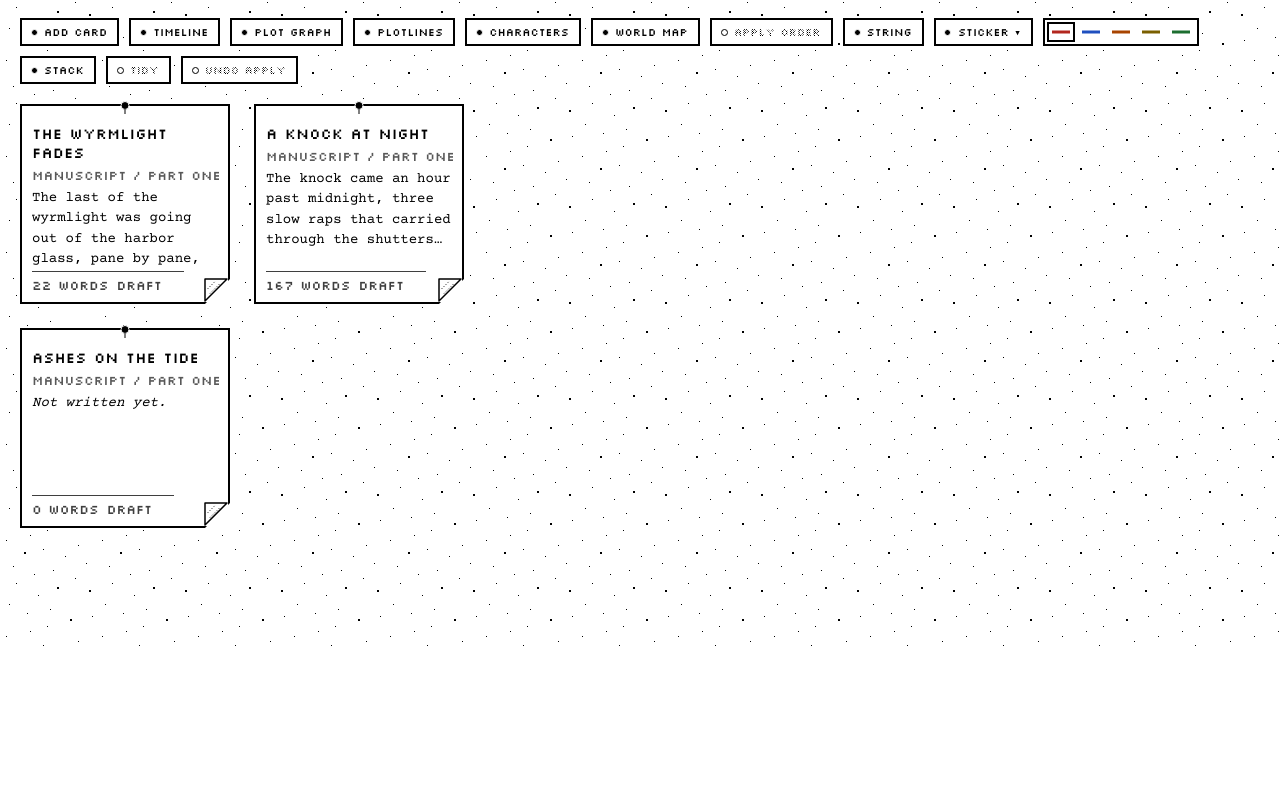
the back of the card › saves and turns to the next card on Enter, in binder order, and closes after the last
Click the button named "Turn The Wyrmlight Fades over". click: (218, 292)
box: [204,278,231,305]
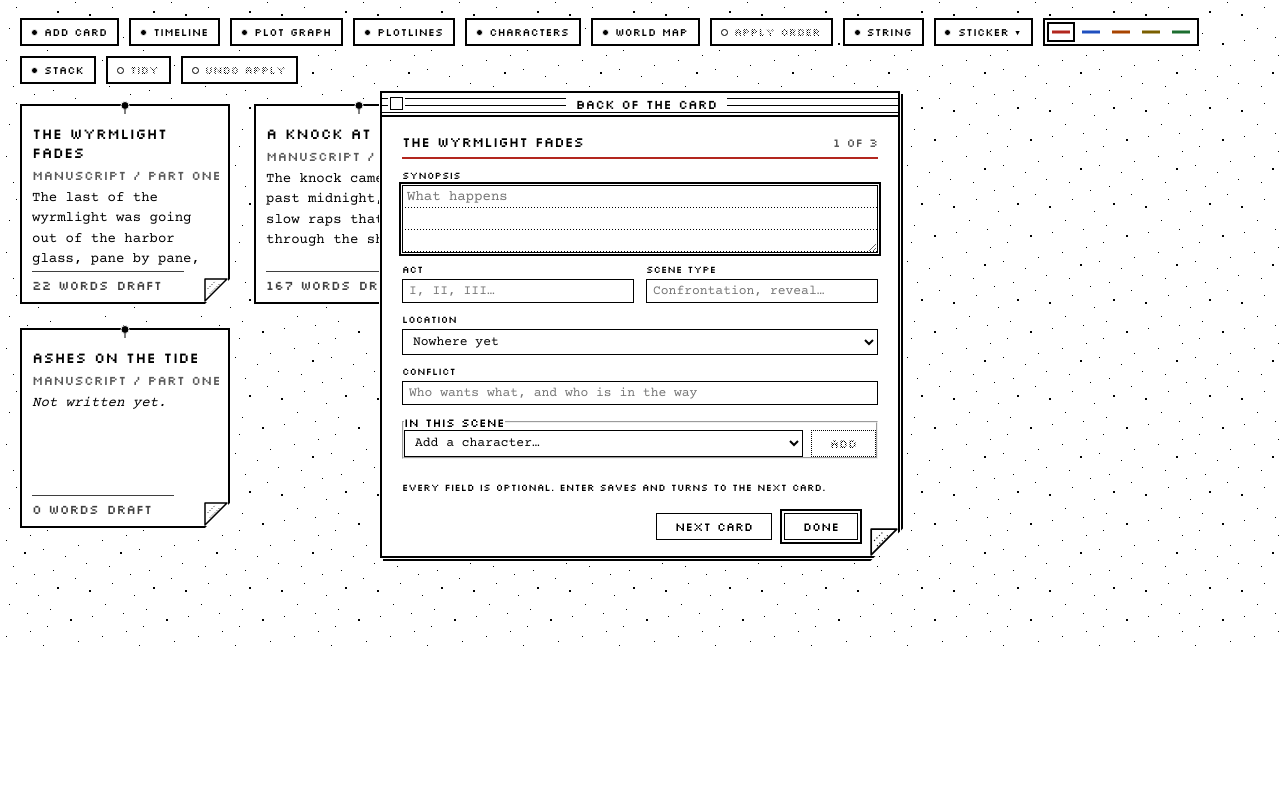
Type "I" into the field labelled "Act". click: (518, 290)
box: [402,278,634,302]
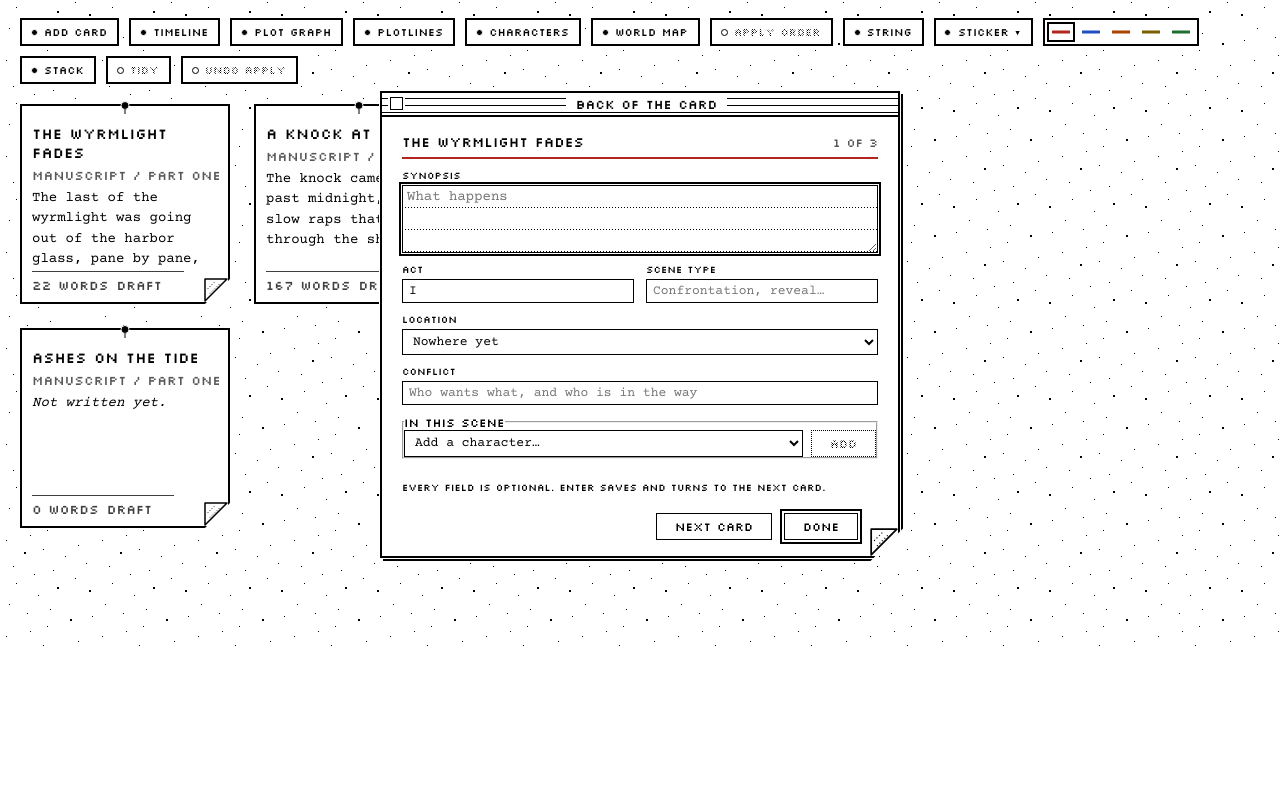
Press Enter in the field labelled "Act", box [402,278,634,302]
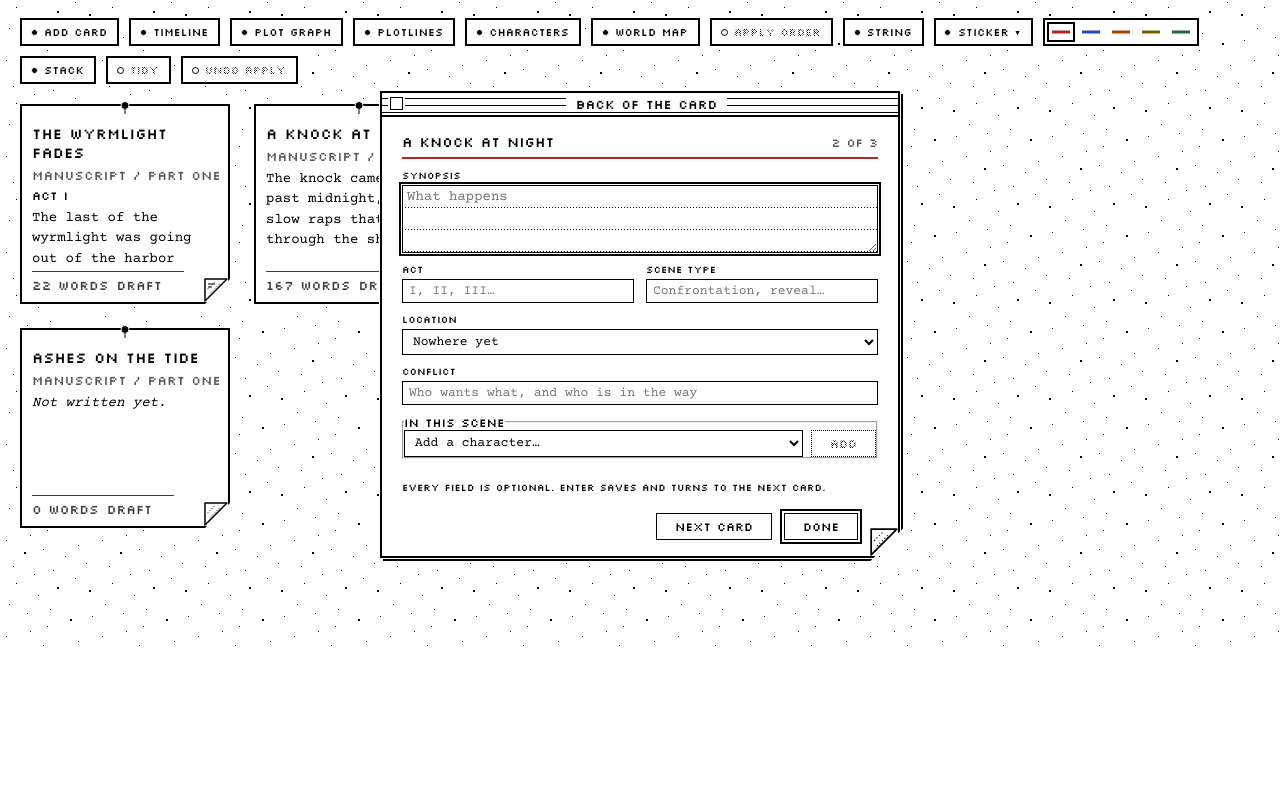
Check: the field labelled "Act" is empty, box [402,278,634,302]
Press Enter in the text box labelled "Synopsis", box [402,184,878,252]
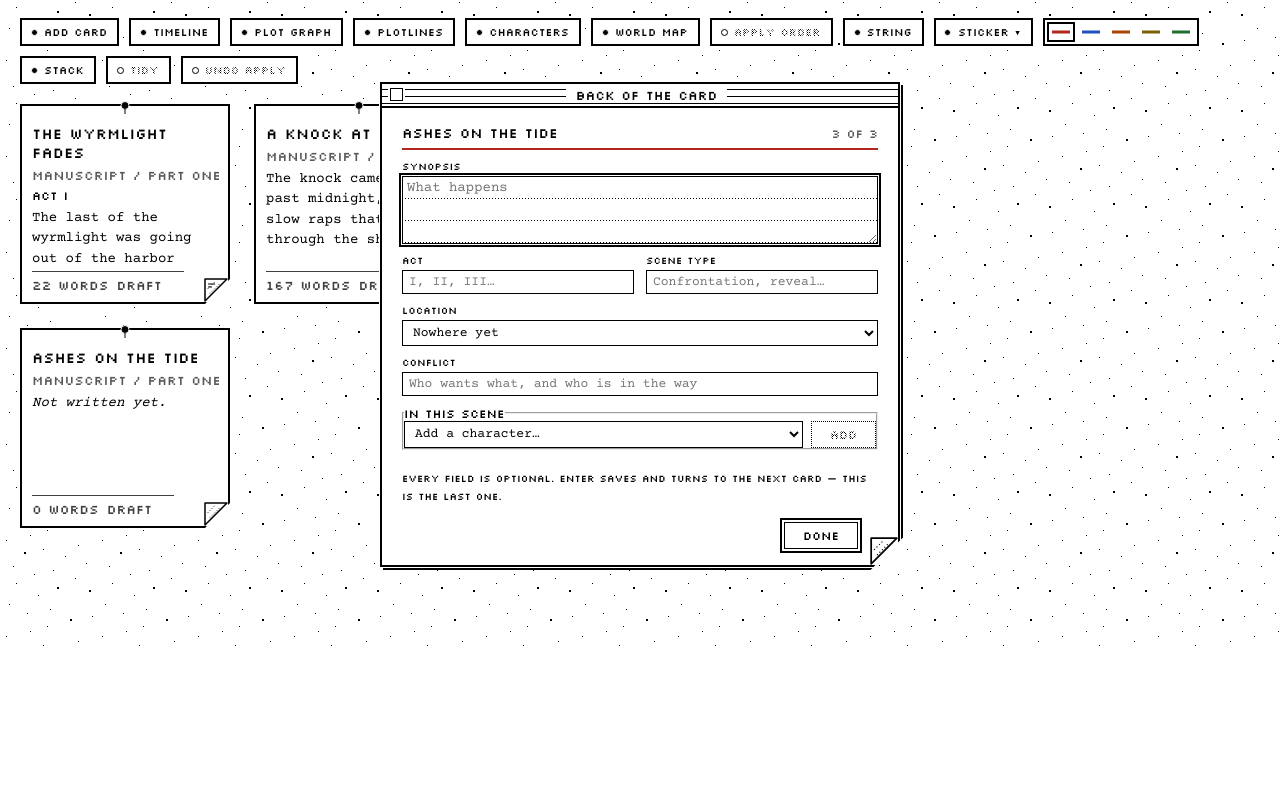
Type "III" into the field labelled "Act". click: (518, 282)
box: [402,270,634,294]
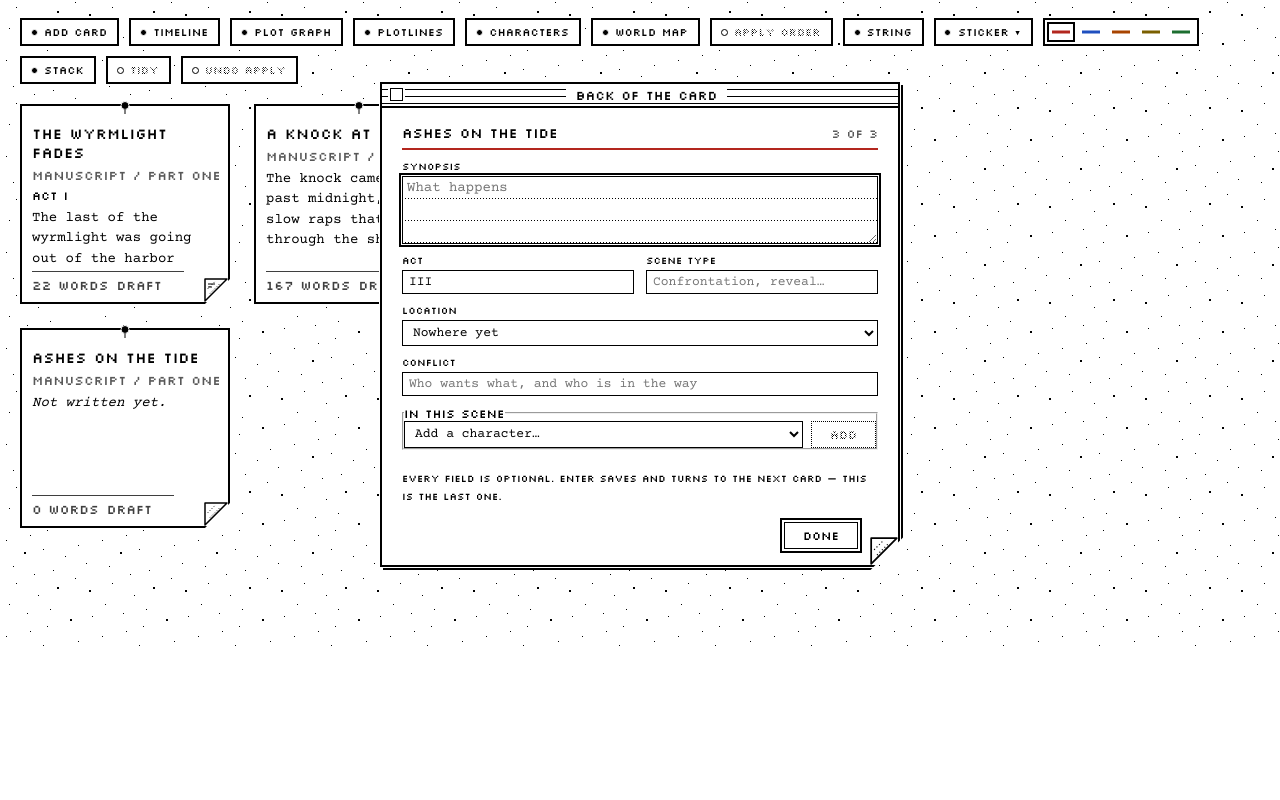
Press Enter in the field labelled "Act", box [402,270,634,294]
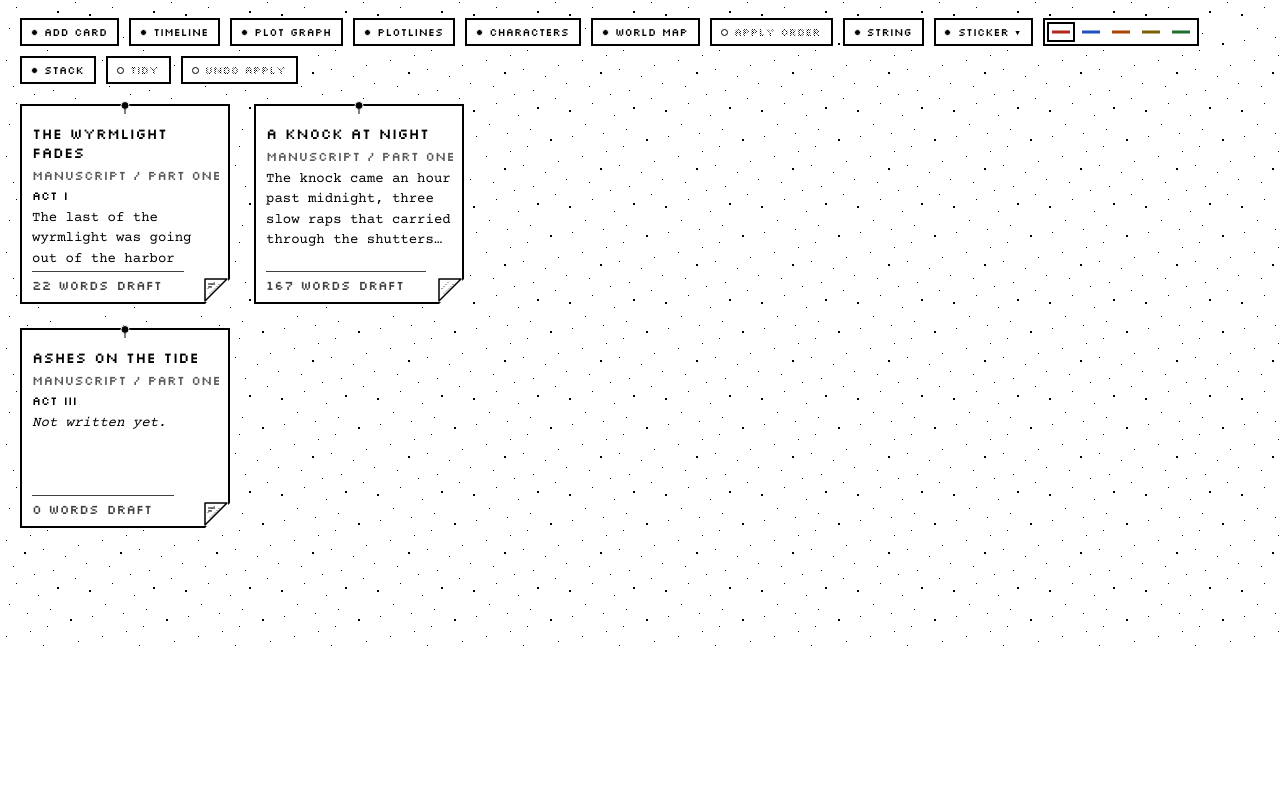
Check: the dialog is gone
